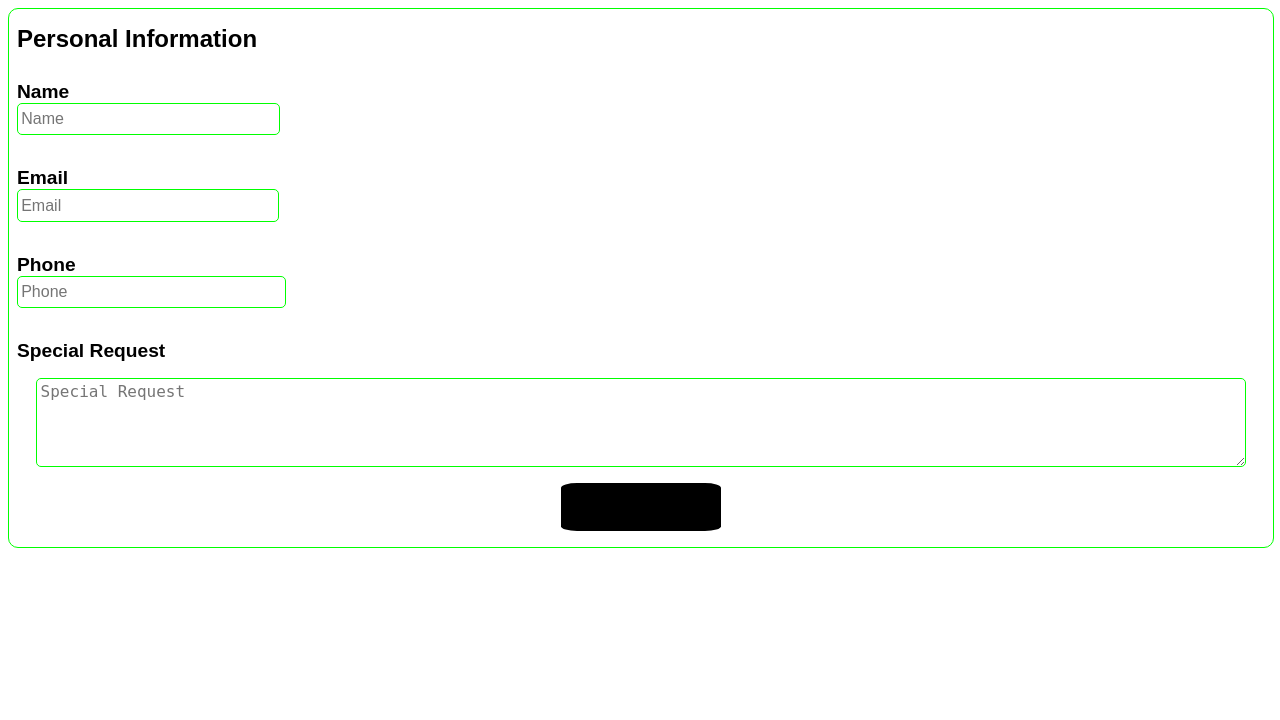
it: ContactDetails component › opens modal with success message upon successful form submission
Type "John" into the field with placeholder "Name" at [148, 119], box x1=17 y1=103 x2=280 y2=135
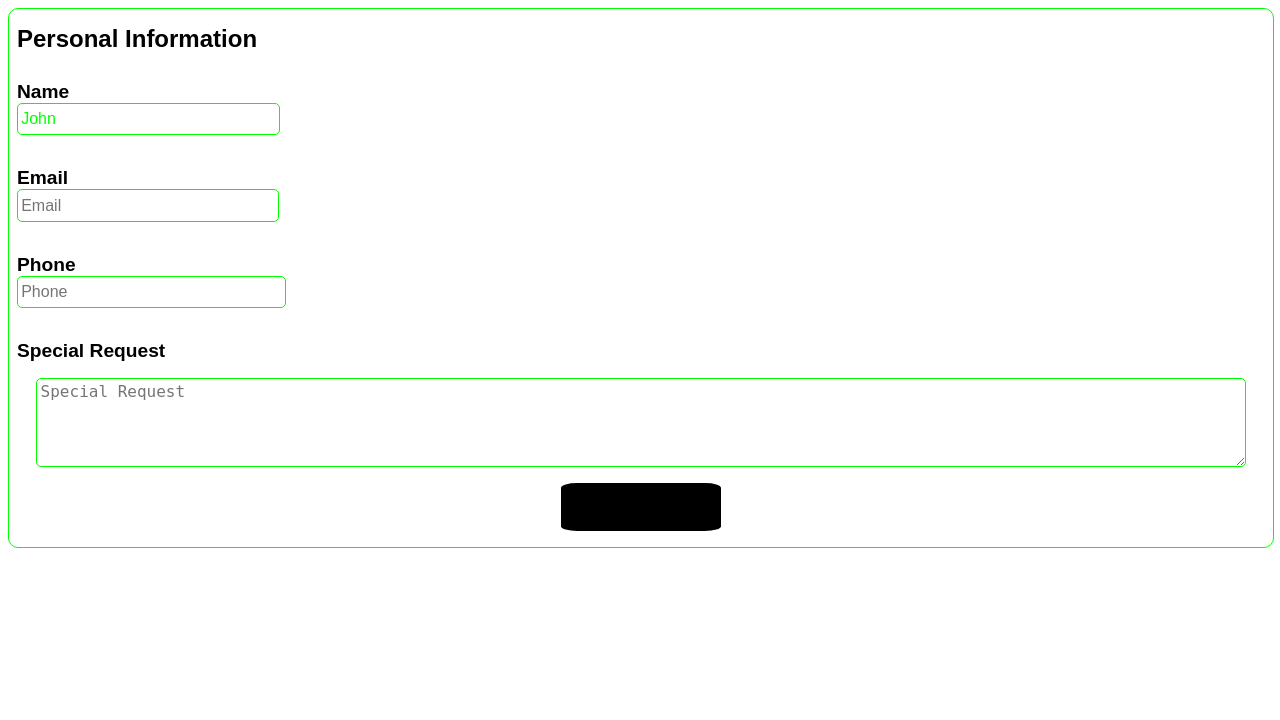
Type "johndoe@example.com" into the field with placeholder "Email" at [148, 206], box x1=17 y1=189 x2=279 y2=222
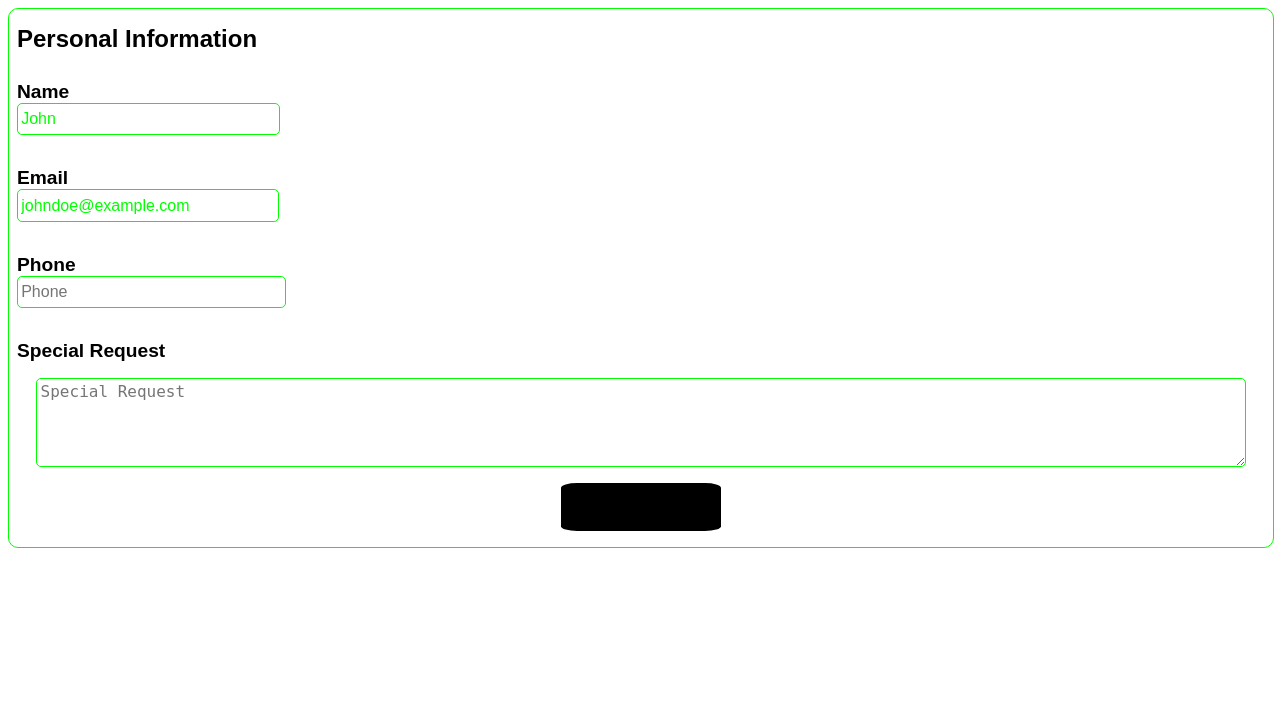
Type "1234567890" into the field with placeholder "Phone" at [151, 292], box x1=17 y1=276 x2=286 y2=308
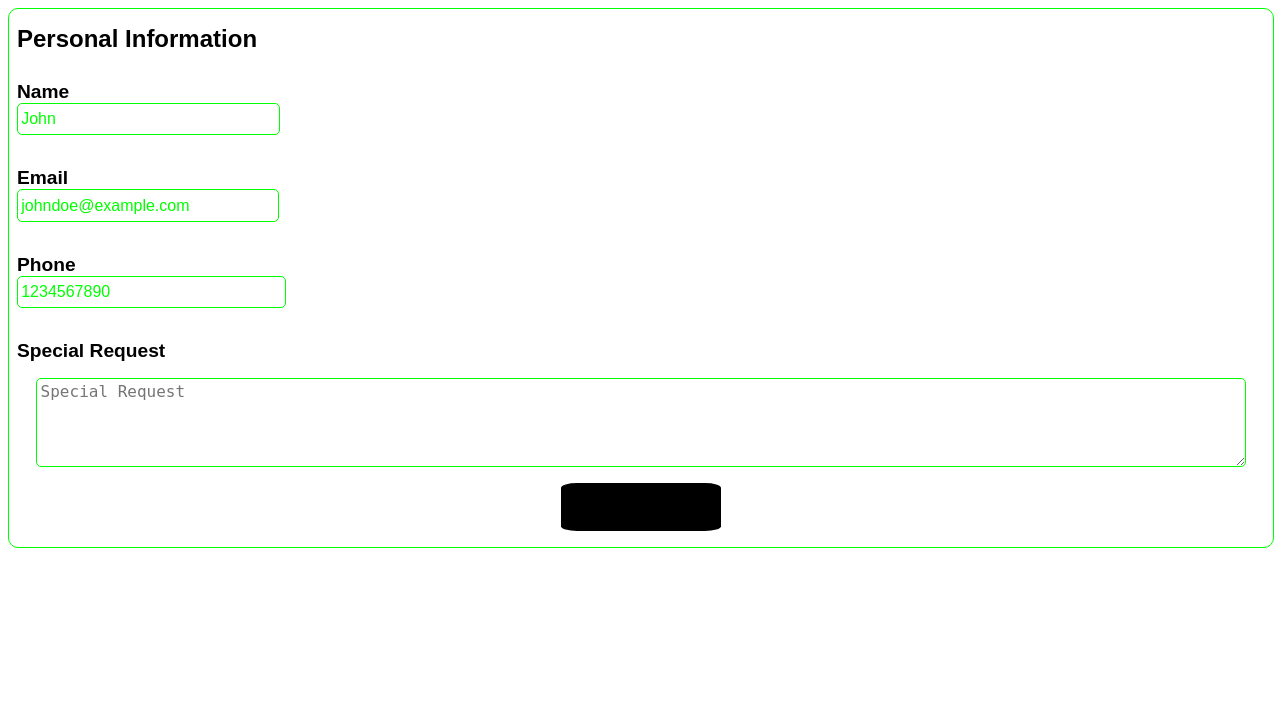
Click the button "Reserve" at [641, 506], box x1=561 y1=482 x2=721 y2=530
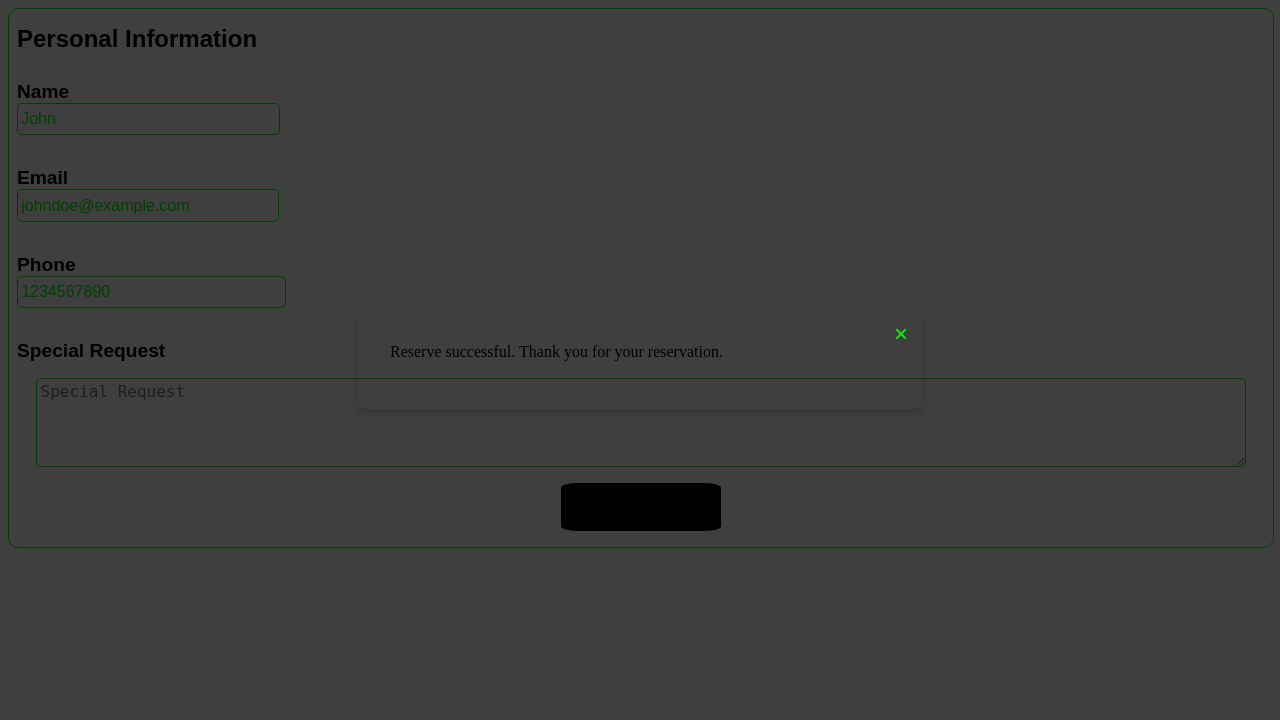
Check: the text "Reserve successful. Thank you for your reservation." is shown, box x1=390 y1=343 x2=723 y2=360
